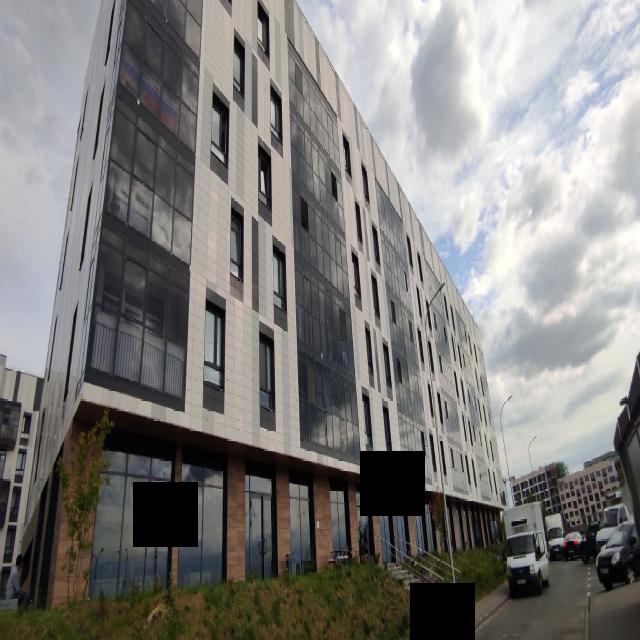Building: (20, 0, 506, 608)
